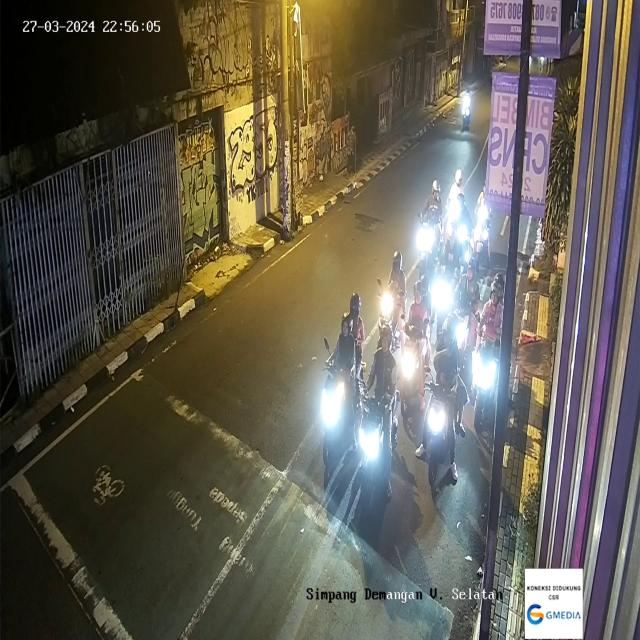motorcycle: (358, 323, 404, 505), (324, 288, 365, 468), (421, 318, 462, 490), (471, 274, 507, 430), (416, 175, 445, 280), (380, 250, 408, 347), (472, 188, 496, 270), (460, 86, 474, 129)
